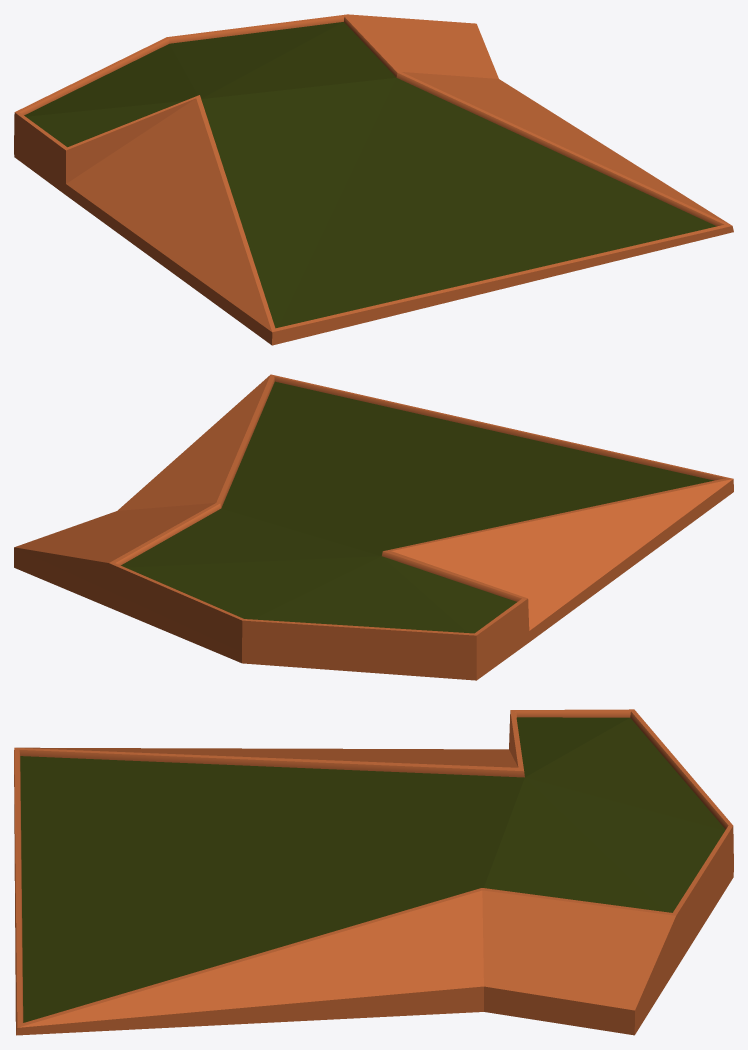
Rendered from W_O_Deco_Glassbed_L1.fbx.
The picture shows the model from 3 angles, top to bottom: view 1: azimuth 30°, elevation 25°; view 2: azimuth 150°, elevation 25°; view 3: azimuth 270°, elevation 25°; orthographic projection. The views are drawn at different scales.
Parts seen in each view (by area): view 1: W_O_Deco_Glassbed_L1; view 2: W_O_Deco_Glassbed_L1; view 3: W_O_Deco_Glassbed_L1.
Part boxes in pixels (x1,y1,x2,y2): W_O_Deco_Glassbed_L1: [14, 14, 733, 345]; W_O_Deco_Glassbed_L1: [14, 374, 733, 680]; W_O_Deco_Glassbed_L1: [14, 709, 733, 1035].
Size of the model in its own units: 4.98 by 5.57 by 0.6341.
